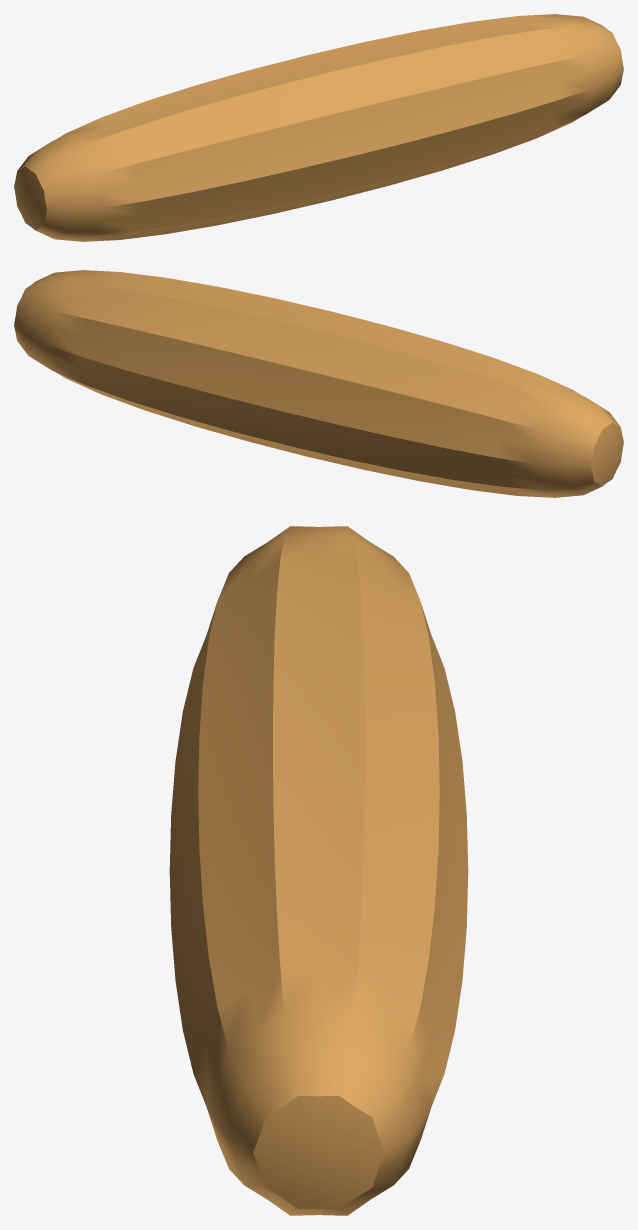
The model's file is Baguette.fbx.
3 views of the same model, one above another, from view 1: azimuth 30°, elevation 25°; view 2: azimuth 150°, elevation 25°; view 3: azimuth 270°, elevation 25° (orthographic). The views are drawn at different scales.
Parts seen in each view (by area): view 1: Baguette; view 2: Baguette; view 3: Baguette.
Part boxes in pixels (<box>): Baguette: <box>14,14,623,241</box>; Baguette: <box>14,270,623,497</box>; Baguette: <box>169,526,468,1215</box>.
Bounding box in the file's own units: 0.3 × 0.0627 × 0.0659.
